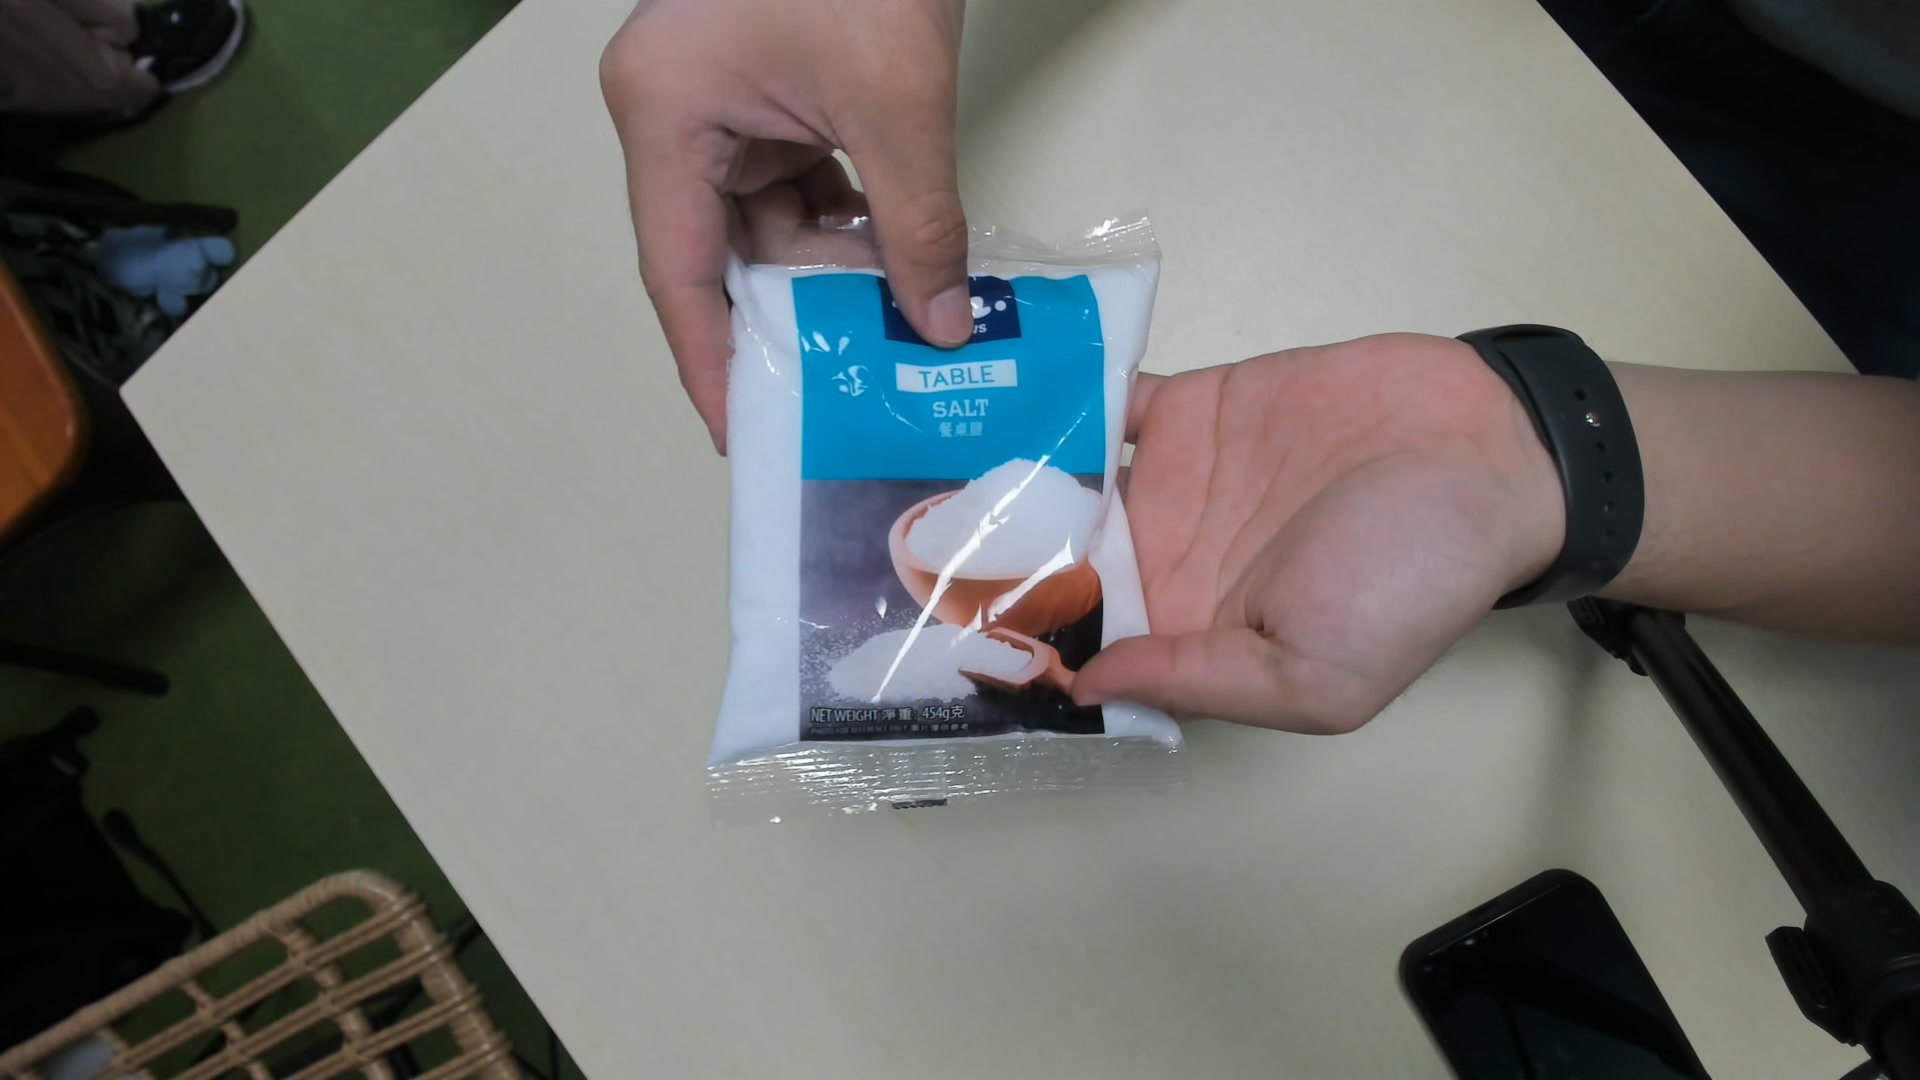Salt_400-499g_NonHalal_NonHealthy: (723, 206, 1189, 802)
